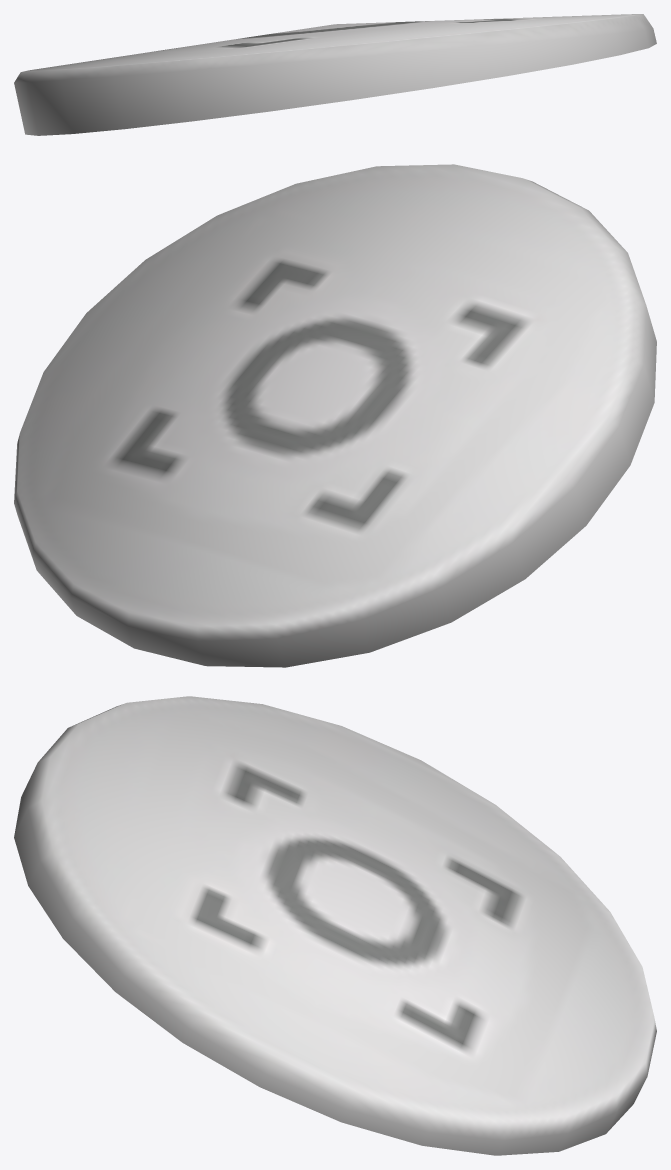
The model's file is right_app_button.obj.
The picture shows the model from 3 angles, top to bottom: view 1: azimuth 30°, elevation 25°; view 2: azimuth 150°, elevation 25°; view 3: azimuth 270°, elevation 25°; orthographic projection. The views are drawn at different scales.
Parts seen in each view (by area): view 1: right_app_button; view 2: right_app_button; view 3: right_app_button.
Boxes of the visible parts, x1,y1,x2,y2 form: right_app_button: [14, 14, 656, 135]; right_app_button: [14, 164, 656, 667]; right_app_button: [14, 696, 656, 1155].
Size of the model in its own units: 0.00884 by 0.00424 by 0.00838.
Materials: 1 (1 with a texture image).
